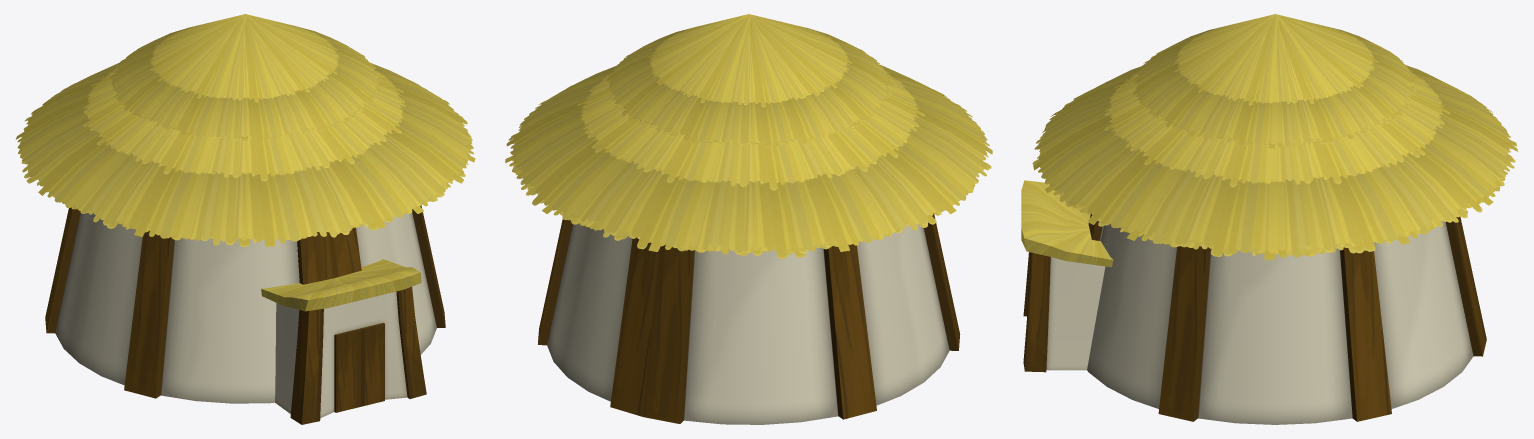
The model's file is hut.obj.
The picture shows the model from 3 angles, left to right: view 1: azimuth 30°, elevation 25°; view 2: azimuth 150°, elevation 25°; view 3: azimuth 270°, elevation 25°; orthographic projection. The views are drawn at different scales.
Parts seen in each view (by area): view 1: Cylinder.019, Cylinder.018, Cylinder.017, Cube.002; view 2: Cylinder.018, Cylinder.019, Cylinder.017; view 3: Cylinder.018, Cylinder.019, Cylinder.017, Cube.002.
Part boxes in pixels (<box>): Cylinder.019: <box>15,63,475,246</box>; Cylinder.018: <box>45,205,445,403</box>; Cylinder.017: <box>110,14,380,141</box>; Cube.002: <box>261,258,426,424</box>; Cylinder.018: <box>538,213,960,424</box>; Cylinder.019: <box>505,65,992,258</box>; Cylinder.017: <box>605,14,892,147</box>; Cylinder.018: <box>1087,214,1486,424</box>; Cylinder.019: <box>1032,65,1518,259</box>; Cylinder.017: <box>1132,14,1418,148</box>; Cube.002: <box>1021,180,1113,372</box>.
Bounding box in the file's own units: 4.08 × 3 × 4.16.
